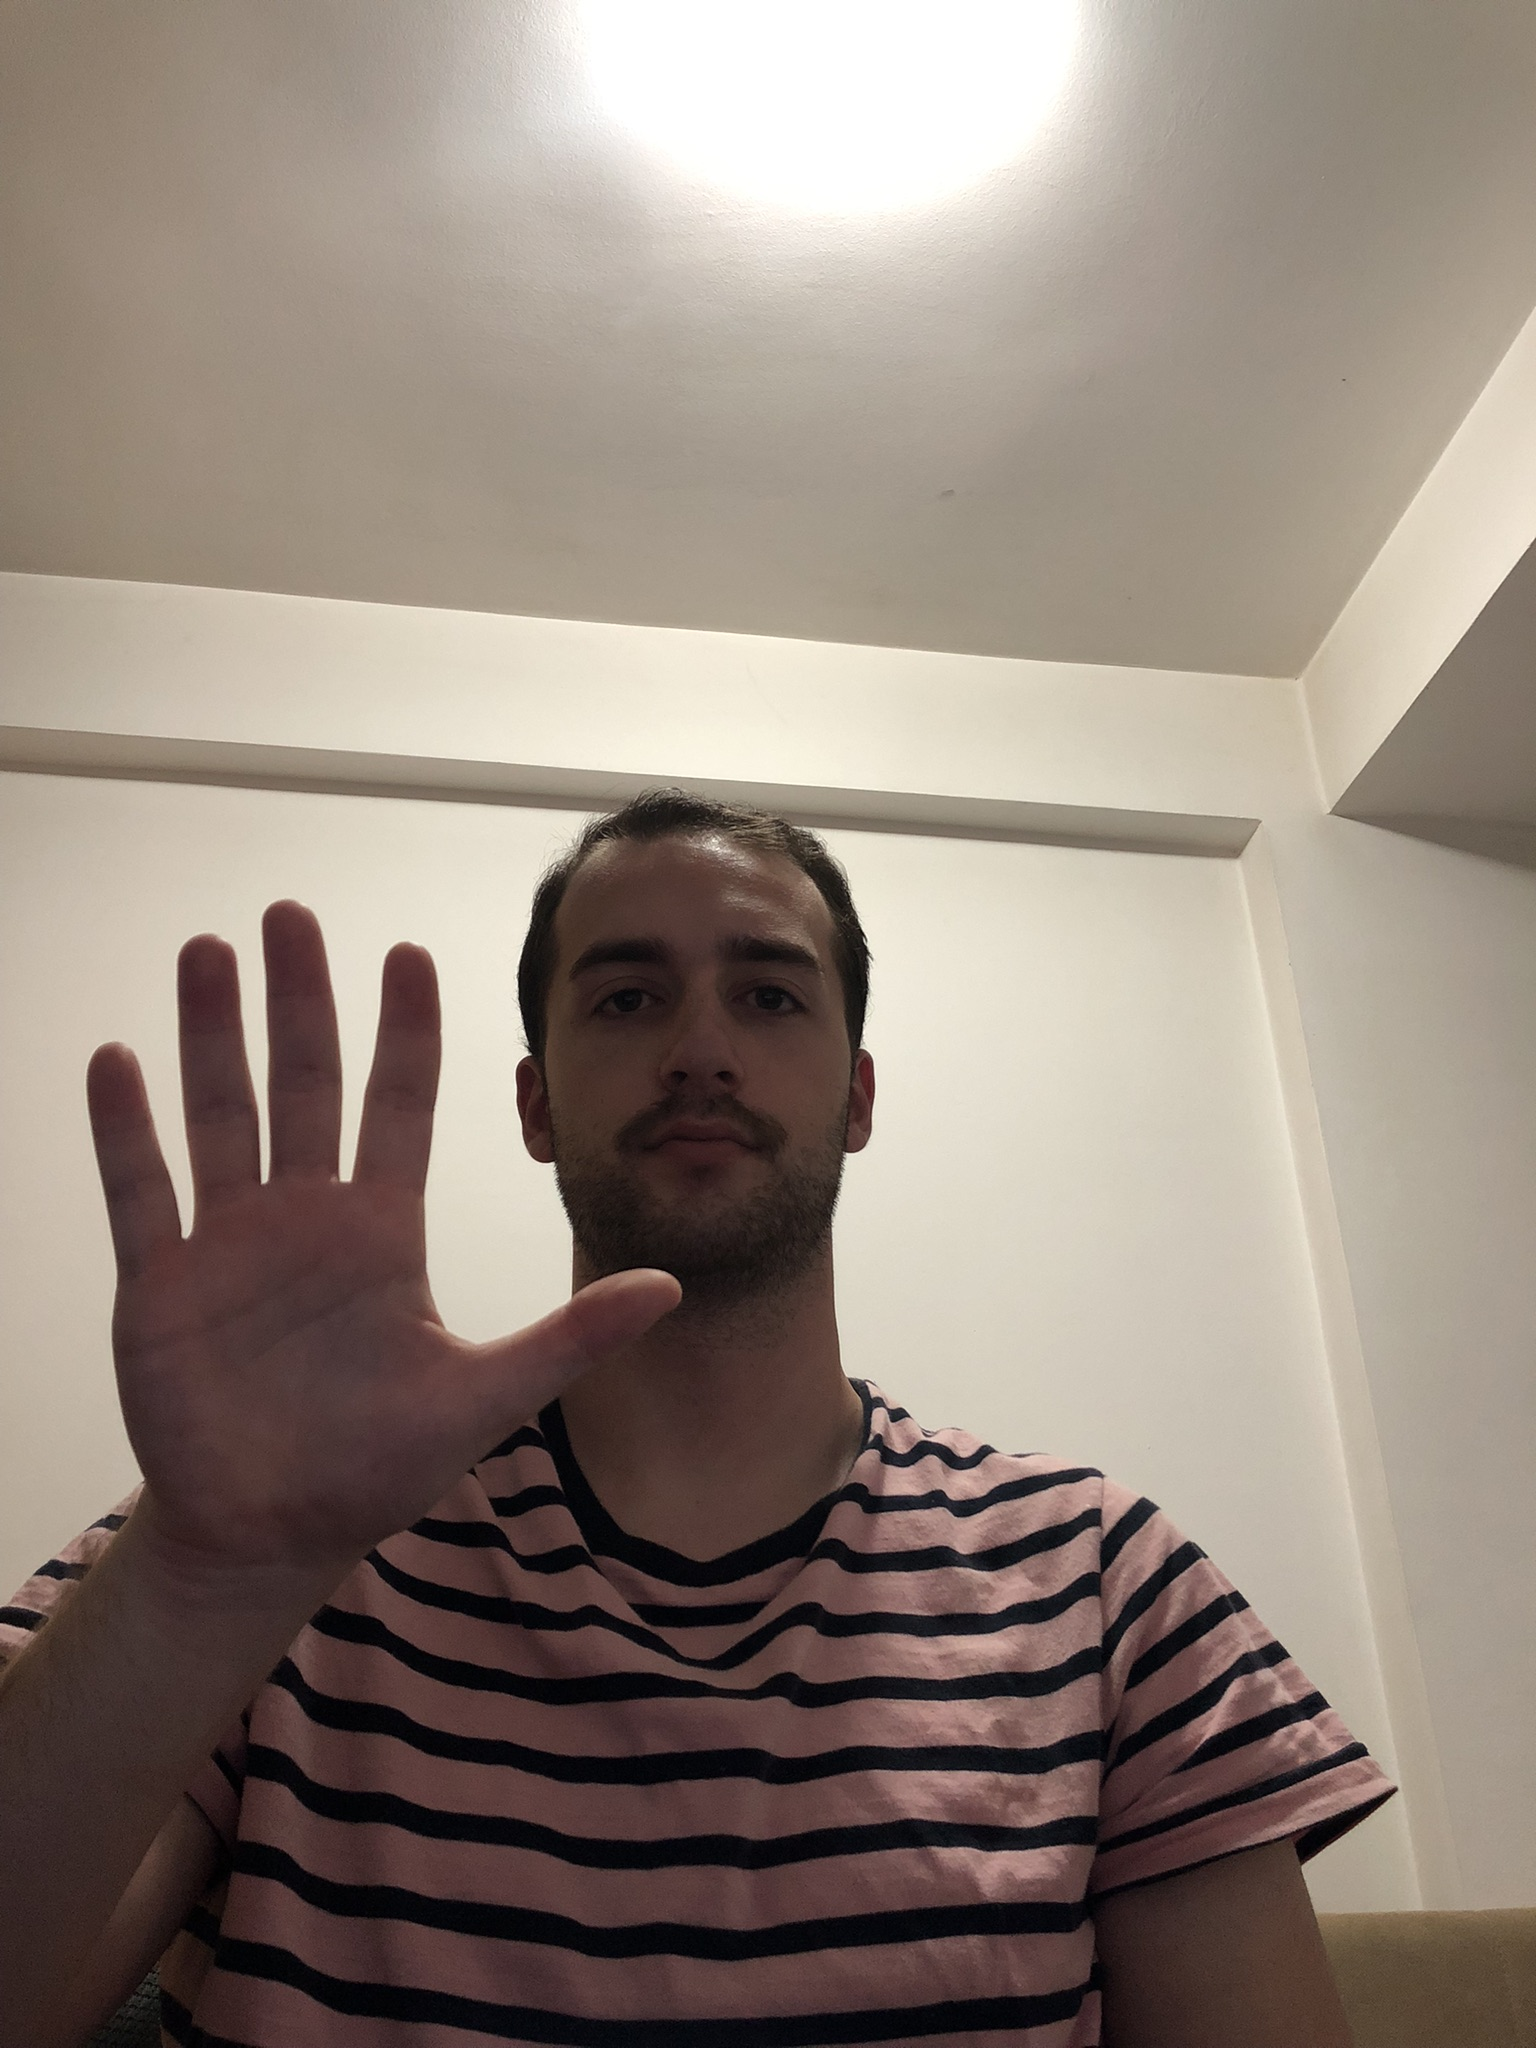Hello: (77, 892, 687, 1580)
